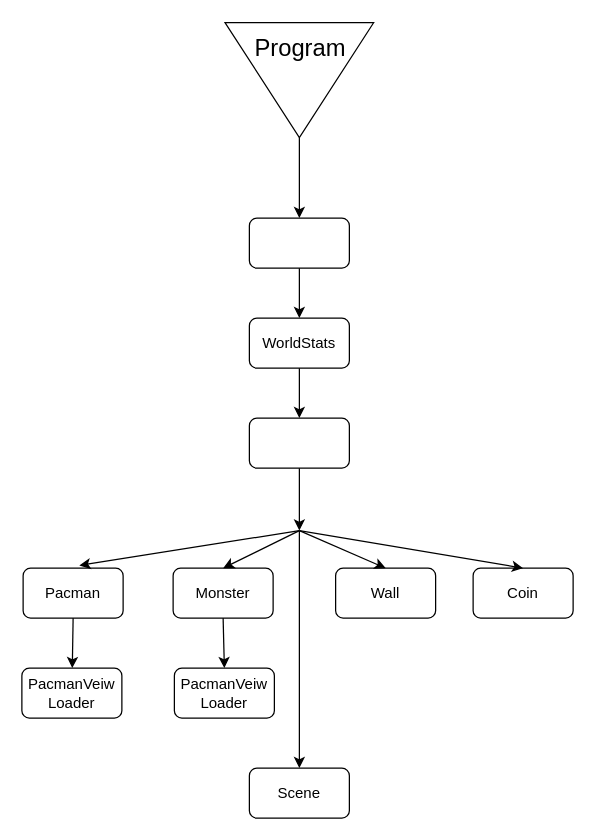
The diagram is 595 pixels wide and 840 high, and some of its shapes have lost their labels. Here are the shapes that lost their labels. From the top down, the box of each, then its label:
(248, 217, 349, 268): Game
(248, 417, 349, 468): Map
